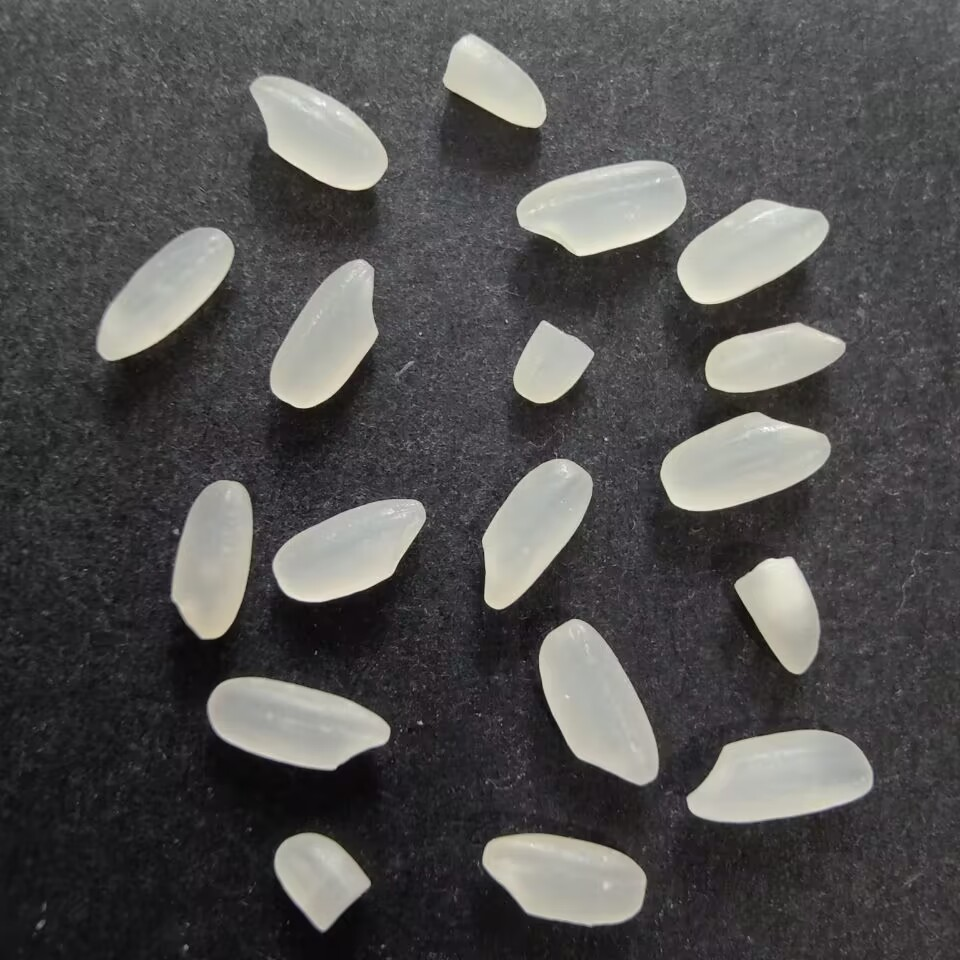broken: (730, 551, 825, 682), (435, 29, 549, 133), (270, 830, 374, 936), (507, 316, 599, 408)
rice: (538, 615, 661, 790), (90, 225, 240, 366), (512, 152, 689, 262), (203, 674, 394, 775), (681, 727, 876, 824), (478, 455, 598, 612), (657, 406, 832, 513), (244, 70, 393, 195), (265, 255, 383, 410), (674, 193, 831, 307), (272, 493, 430, 603), (473, 833, 649, 928), (169, 475, 254, 645), (703, 317, 852, 398)
